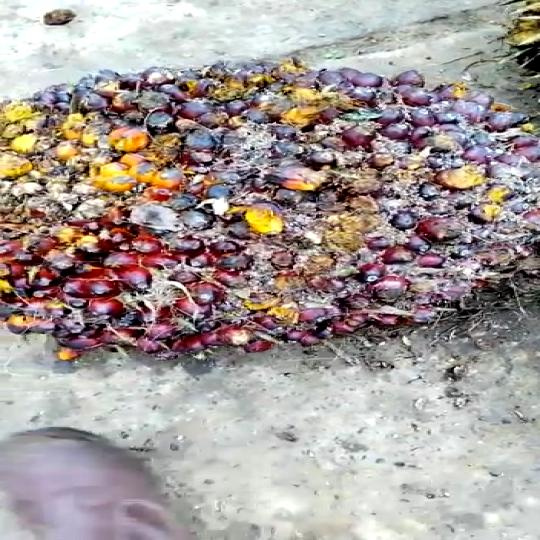kurang masak: (0, 64, 540, 343)
